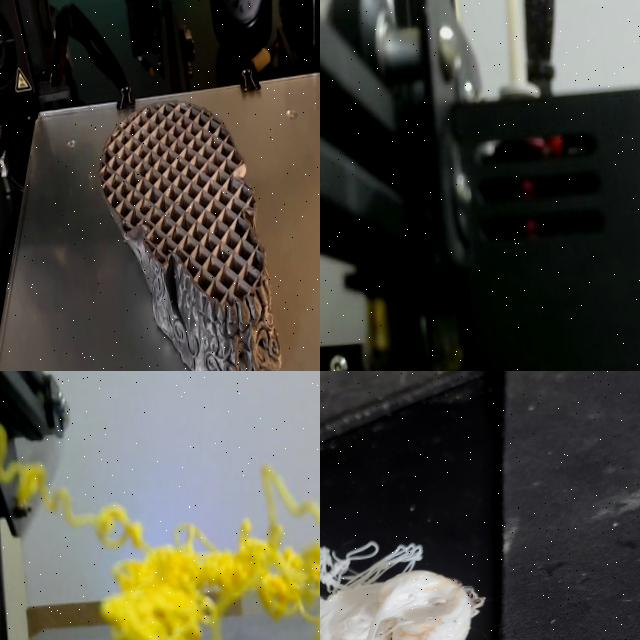spaghetti: (0, 424, 320, 640), (320, 525, 432, 611)
